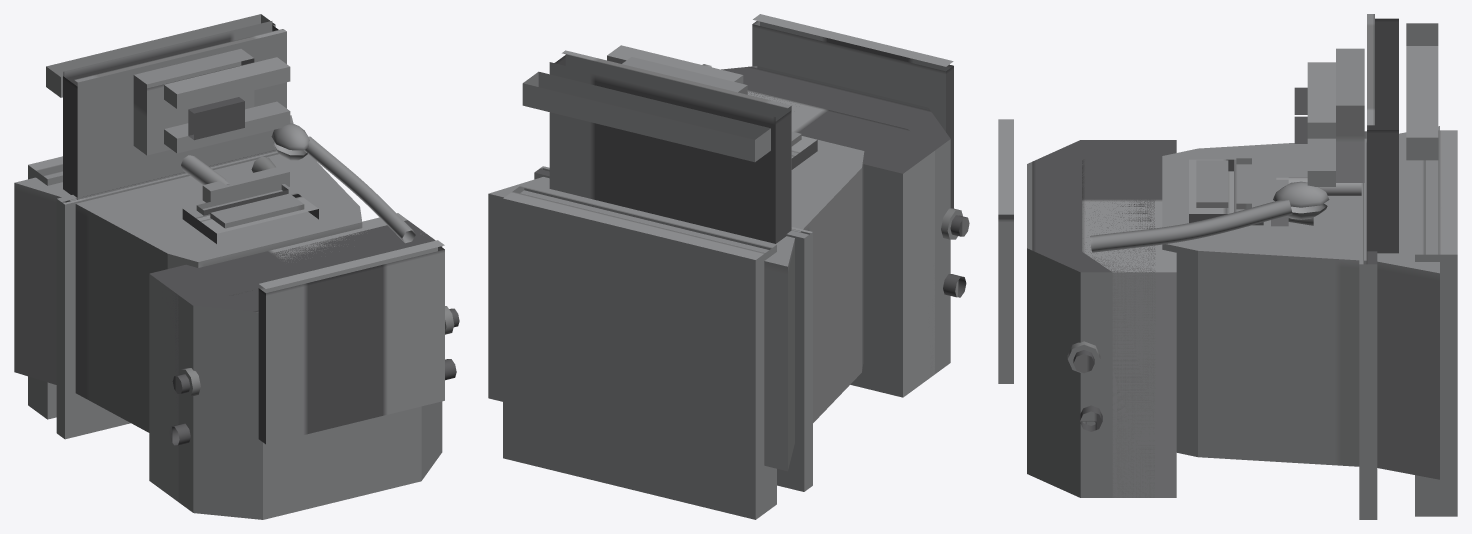
The picture shows the model from 3 angles, left to right: view 1: azimuth 30°, elevation 25°; view 2: azimuth 150°, elevation 25°; view 3: azimuth 270°, elevation 25°; orthographic projection. The views are drawn at different scales.
Size of the model in its own units: 0.4165 by 0.5042 by 0.5483.
